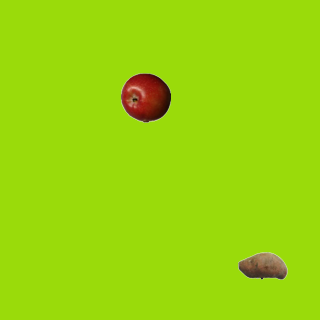Apple Braeburn: (120, 72, 170, 122)
Potato Sweet: (237, 240, 287, 290)
